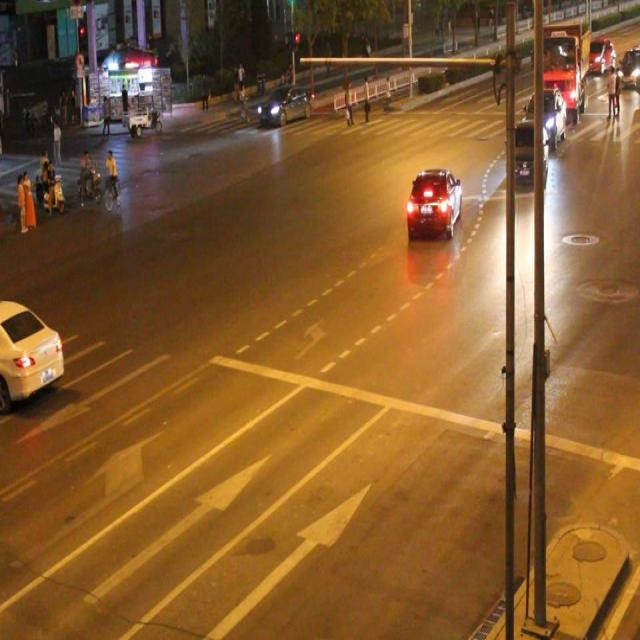car: (0, 300, 64, 406), (404, 167, 461, 241), (506, 122, 546, 186)
